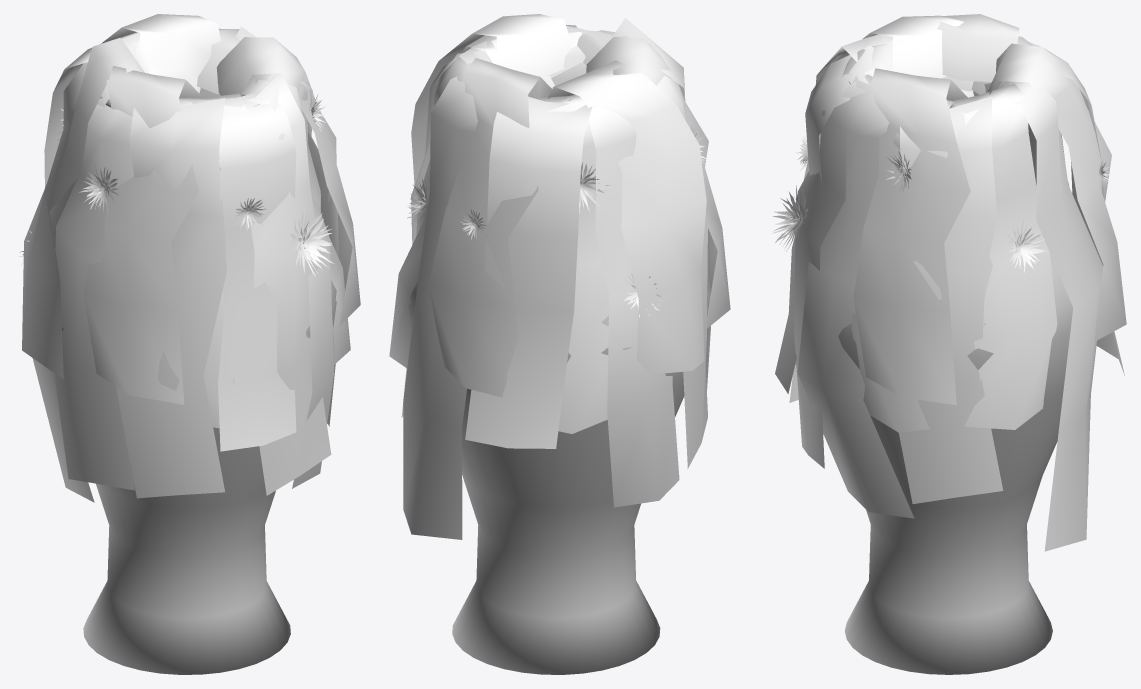
Rendered from Env_Main_SelenicereusPot_01.fbx.
3 renders of one model, left to right at view 1: azimuth 30°, elevation 25°; view 2: azimuth 150°, elevation 25°; view 3: azimuth 270°, elevation 25°, orthographic.
Parts seen in each view (by area): view 1: Env_Lounge_VaseAlt_01, Env_Main_SelenicereusLeafAlt_01.002, Env_Main_SelenicereusLeafAlt2_01.009, Env_Main_SelenicereusLeaf_01.001, Env_Main_SelenicereusLeafAlt_01.004, Env_Main_SelenicereusLeafAlt_01.003, Env_Main_SelenicereusLeafAlt2_01.010, Env_Main_SelenicereusLeafAlt2_01.008, Env_Main_SelenicereusLeafAlt2_01.001, Env_Main_SelenicereusLeafAlt2_01.011, Env_Main_SelenicereusLeafAlt2_01.002, Env_Main_SelenicereusLeaf_01.002 (+7 smaller); view 2: Env_Lounge_VaseAlt_01, Env_Main_SelenicereusLeaf_01.002, Env_Main_SelenicereusLeafAlt2_01.010, Env_Main_SelenicereusLeafAlt2_01.011, Env_Main_SelenicereusLeafAlt2_01.003, Env_Main_SelenicereusLeafAlt2_01.002, Env_Main_SelenicereusLeafAlt2_01.007, Env_Main_SelenicereusLeafAlt2_01.008, Env_Main_SelenicereusLeafAlt2_01.009, Env_Main_SelenicereusLeafAlt2_01.004, Env_Main_SelenicereusLeafAlt_01.004, Env_Main_SelenicereusLeafAlt_01.002 (+3 smaller); view 3: Env_Lounge_VaseAlt_01, Env_Main_SelenicereusLeafAlt2_01.008, Env_Main_SelenicereusLeafAlt_01.001, Env_Main_SelenicereusLeafAlt2_01.001, Env_Main_SelenicereusLeafAlt2_01.004, Env_Main_SelenicereusLeafAlt2_01.003, Env_Main_SelenicereusLeafAlt2_01.011, Env_Main_SelenicereusLeafAlt_01.003, Env_Main_SelenicereusLeaf_01.001, Env_Main_SelenicereusLeafAlt2_01.010, Env_Main_SelenicereusLeafAlt2_01.009, Env_Main_SelenicereusLeafAlt2_01.005 (+6 smaller).
Boxes of the visible parts, x1=… form: Env_Lounge_VaseAlt_01: x1=54, y1=96, x2=336, y2=674; Env_Main_SelenicereusLeafAlt_01.002: x1=116, y1=98, x2=226, y2=498; Env_Main_SelenicereusLeafAlt2_01.009: x1=83, y1=66, x2=203, y2=404; Env_Main_SelenicereusLeaf_01.001: x1=190, y1=91, x2=296, y2=451; Env_Main_SelenicereusLeafAlt_01.004: x1=54, y1=104, x2=134, y2=490; Env_Main_SelenicereusLeafAlt_01.003: x1=241, y1=73, x2=331, y2=495; Env_Main_SelenicereusLeafAlt2_01.010: x1=22, y1=37, x2=144, y2=379; Env_Main_SelenicereusLeafAlt2_01.008: x1=216, y1=37, x2=360, y2=326; Env_Main_SelenicereusLeafAlt2_01.001: x1=240, y1=73, x2=334, y2=488; Env_Main_SelenicereusLeafAlt2_01.011: x1=101, y1=14, x2=220, y2=93; Env_Main_SelenicereusLeafAlt2_01.002: x1=32, y1=62, x2=109, y2=502; Env_Main_SelenicereusLeaf_01.002: x1=44, y1=32, x2=188, y2=187; Env_Lounge_VaseAlt_01: x1=408, y1=281, x2=707, y2=674; Env_Main_SelenicereusLeaf_01.002: x1=465, y1=96, x2=591, y2=448; Env_Main_SelenicereusLeafAlt2_01.010: x1=548, y1=60, x2=706, y2=374; Env_Main_SelenicereusLeafAlt2_01.011: x1=428, y1=58, x2=559, y2=397; Env_Main_SelenicereusLeafAlt2_01.003: x1=403, y1=76, x2=477, y2=539; Env_Main_SelenicereusLeafAlt2_01.002: x1=568, y1=98, x2=679, y2=507; Env_Main_SelenicereusLeafAlt2_01.007: x1=535, y1=94, x2=609, y2=433; Env_Main_SelenicereusLeafAlt2_01.008: x1=411, y1=14, x2=571, y2=185; Env_Main_SelenicereusLeafAlt2_01.009: x1=586, y1=37, x2=730, y2=328; Env_Main_SelenicereusLeafAlt2_01.004: x1=389, y1=50, x2=492, y2=368; Env_Main_SelenicereusLeafAlt_01.004: x1=644, y1=74, x2=707, y2=468; Env_Main_SelenicereusLeafAlt_01.002: x1=613, y1=18, x2=710, y2=389; Env_Lounge_VaseAlt_01: x1=838, y1=81, x2=1073, y2=674; Env_Main_SelenicereusLeafAlt2_01.008: x1=853, y1=68, x2=970, y2=405; Env_Main_SelenicereusLeafAlt_01.001: x1=899, y1=96, x2=1003, y2=503; Env_Main_SelenicereusLeafAlt2_01.001: x1=797, y1=74, x2=914, y2=518; Env_Main_SelenicereusLeafAlt2_01.004: x1=949, y1=83, x2=1057, y2=429; Env_Main_SelenicereusLeafAlt2_01.003: x1=1003, y1=81, x2=1103, y2=551; Env_Main_SelenicereusLeafAlt2_01.011: x1=988, y1=43, x2=1126, y2=341; Env_Main_SelenicereusLeafAlt_01.003: x1=794, y1=75, x2=873, y2=468; Env_Main_SelenicereusLeaf_01.001: x1=775, y1=45, x2=873, y2=393; Env_Main_SelenicereusLeafAlt2_01.010: x1=937, y1=14, x2=1019, y2=82; Env_Main_SelenicereusLeafAlt2_01.009: x1=836, y1=15, x2=963, y2=78; Env_Main_SelenicereusLeafAlt2_01.005: x1=851, y1=100, x2=955, y2=432.
Size of the model in its own units: 67.86 by 125 by 71.73.
